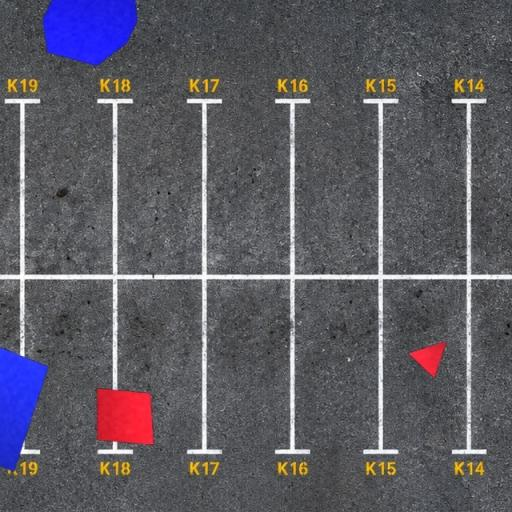BLUE_SQUARE: (0, 328, 49, 472)
RED_SQUARE: (96, 387, 155, 446)
